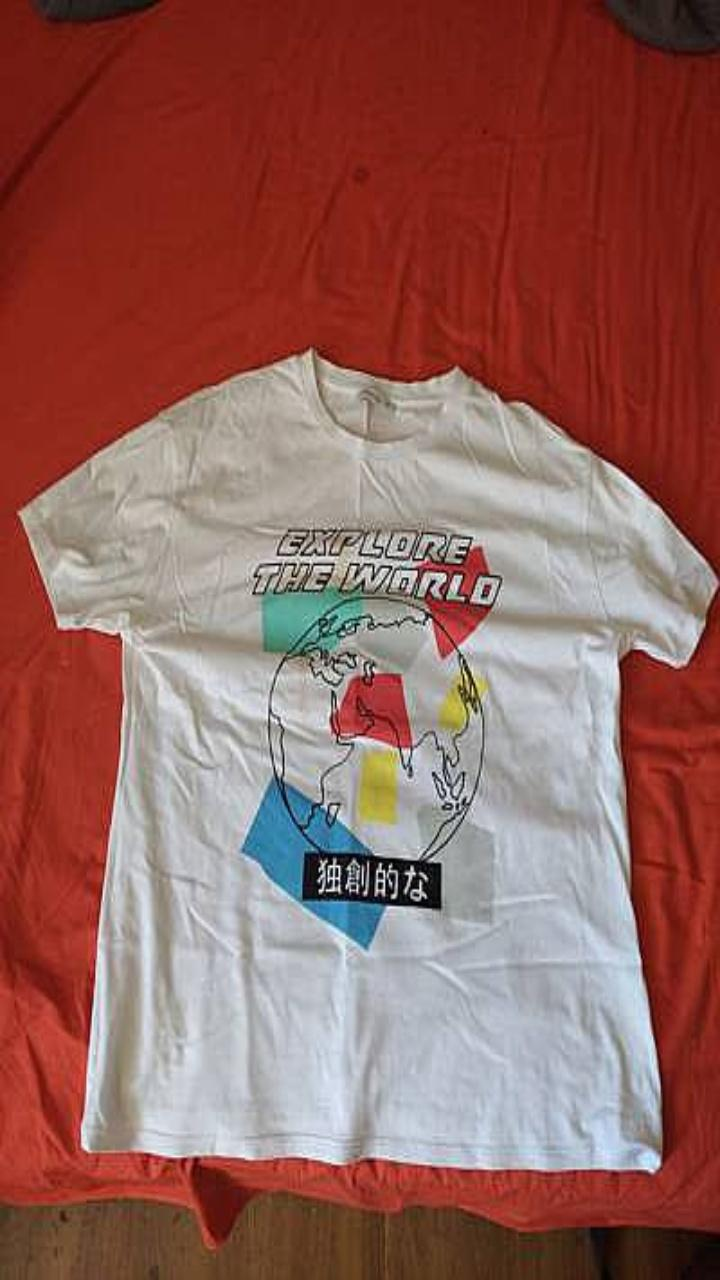T-Shirt: (19, 348, 717, 1170)
